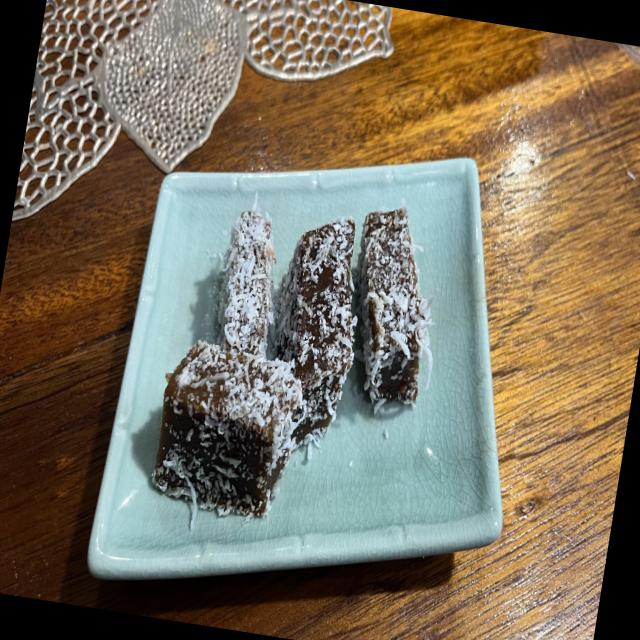kaswi: (152, 341, 303, 527), (275, 218, 357, 445), (357, 207, 433, 412), (218, 195, 276, 356)
